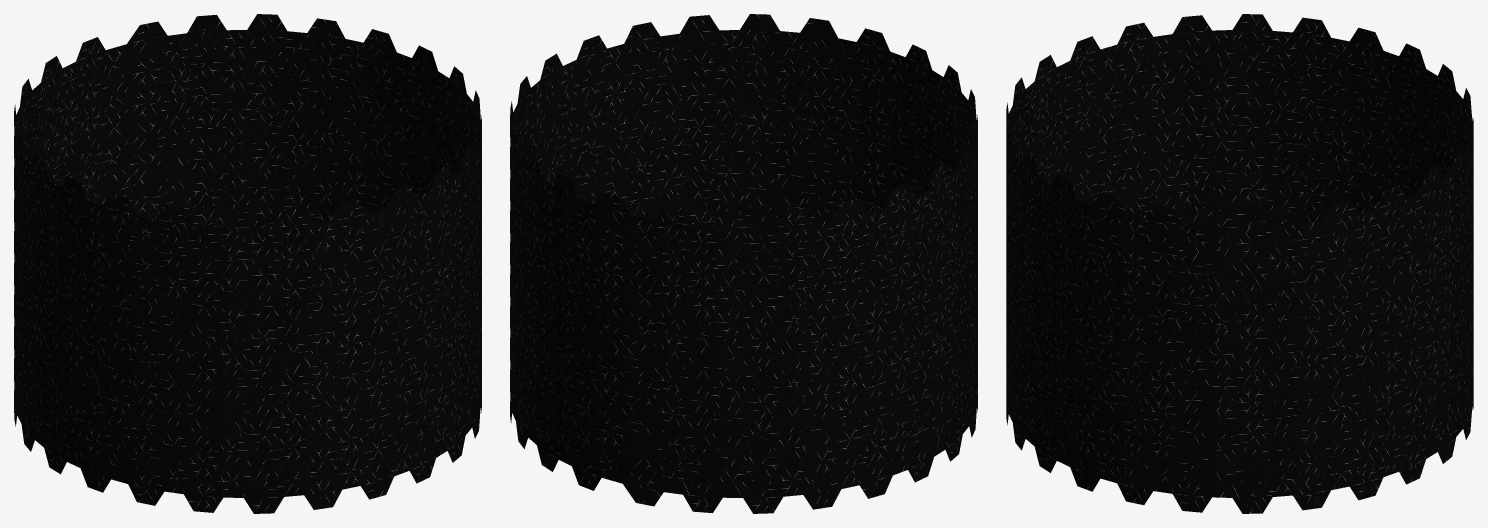
Rendered from SkyRing.fbx.
3 renders of one model, left to right at view 1: azimuth 30°, elevation 25°; view 2: azimuth 150°, elevation 25°; view 3: azimuth 270°, elevation 25°, orthographic.
Parts seen in each view (by area): view 1: SkyRIng; view 2: SkyRIng; view 3: SkyRIng.
Boxes of the visible parts, x1=… form: SkyRIng: x1=14, y1=14, x2=481, y2=513; SkyRIng: x1=510, y1=14, x2=977, y2=513; SkyRIng: x1=1006, y1=14, x2=1473, y2=513.
Bounding box in the file's own units: 375 × 267 × 375.
